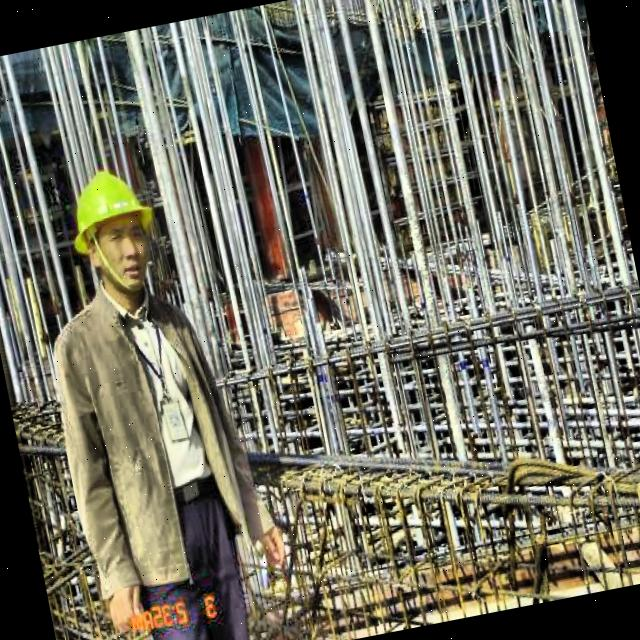helmet: (56, 154, 171, 313)
